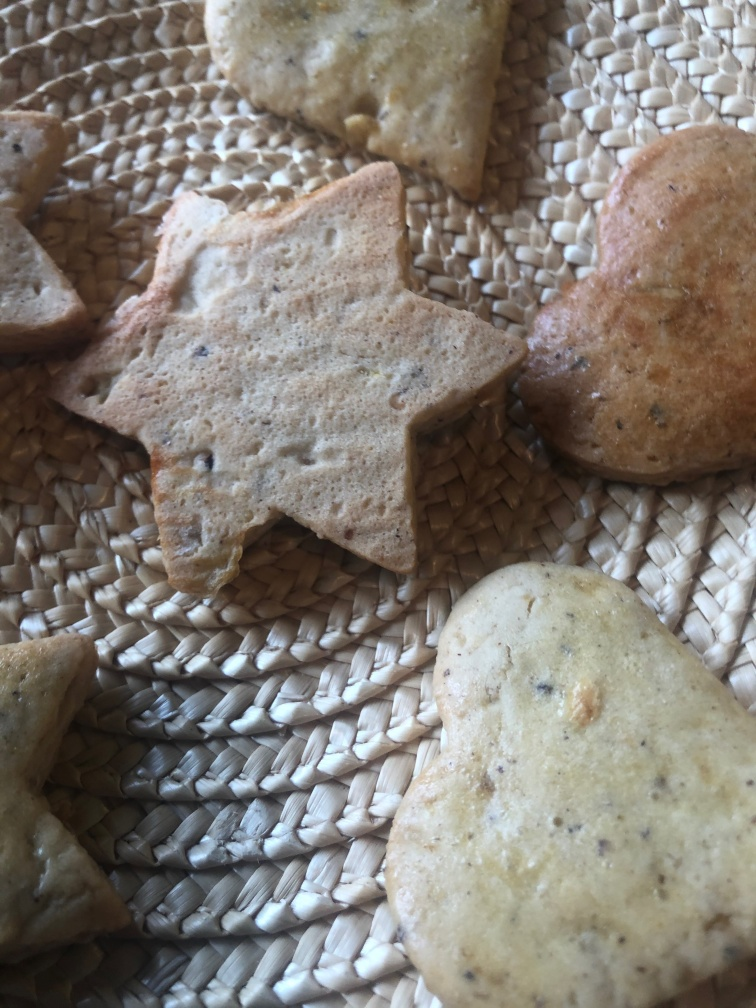heart: (374, 561, 754, 1005), (521, 121, 756, 473), (203, 1, 512, 212)
star: (53, 159, 508, 606), (1, 610, 136, 970), (1, 99, 91, 348)
